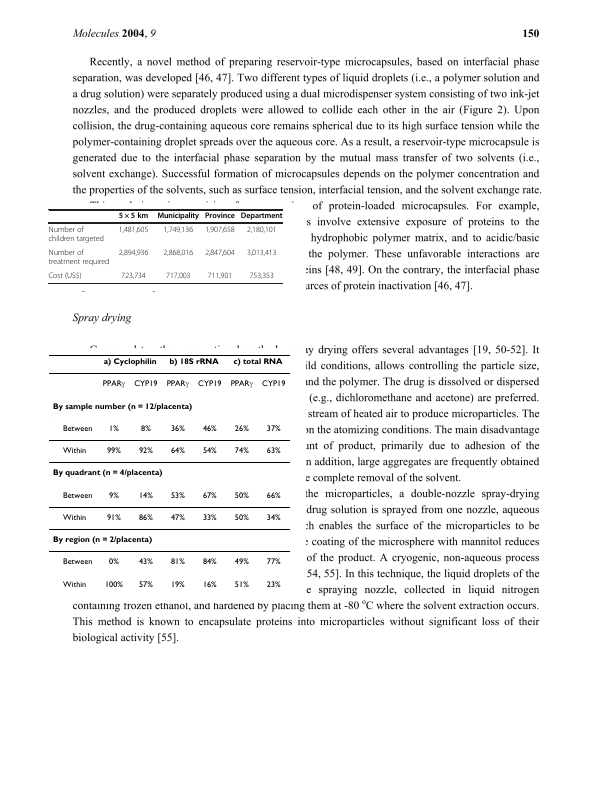borderless: (47, 353, 291, 597), (47, 208, 283, 283)
cell: (51, 402, 193, 412), (48, 248, 110, 266), (48, 225, 105, 243), (51, 469, 163, 478), (51, 536, 153, 545), (101, 369, 125, 391), (165, 369, 189, 391), (229, 369, 253, 391), (102, 358, 157, 367), (168, 358, 219, 367), (232, 358, 283, 367), (156, 212, 200, 221), (240, 212, 283, 221), (162, 225, 194, 235), (204, 225, 236, 235), (48, 271, 83, 280), (118, 225, 149, 235), (246, 225, 277, 235), (204, 212, 236, 221), (162, 248, 194, 257), (204, 248, 236, 257), (118, 212, 149, 221), (118, 248, 149, 257), (246, 248, 277, 257), (61, 424, 93, 432), (61, 491, 93, 499), (61, 558, 93, 566), (120, 271, 147, 280), (248, 271, 275, 280), (165, 271, 191, 280), (207, 271, 233, 280), (61, 513, 87, 521), (61, 580, 87, 588), (133, 380, 158, 388), (197, 380, 222, 388), (261, 380, 286, 388), (61, 447, 87, 454), (103, 580, 123, 588), (169, 424, 185, 432), (201, 424, 217, 432), (233, 424, 249, 432), (265, 424, 281, 432), (137, 491, 153, 499), (169, 491, 185, 499), (201, 491, 217, 499), (233, 491, 249, 499), (265, 491, 281, 499), (105, 513, 121, 521), (137, 513, 153, 521), (169, 513, 185, 521), (201, 513, 217, 521), (233, 513, 249, 521), (265, 513, 281, 521), (137, 558, 153, 566), (169, 558, 185, 566), (201, 558, 217, 566), (233, 558, 249, 566), (265, 558, 281, 566), (137, 580, 153, 588), (169, 580, 185, 588), (201, 580, 217, 588), (233, 580, 249, 588), (265, 580, 281, 588), (105, 447, 121, 454), (137, 447, 153, 454), (169, 447, 185, 454), (201, 447, 217, 454), (233, 447, 249, 454), (265, 447, 281, 454), (108, 424, 119, 432), (140, 424, 151, 432), (108, 491, 119, 499), (108, 558, 119, 566)
